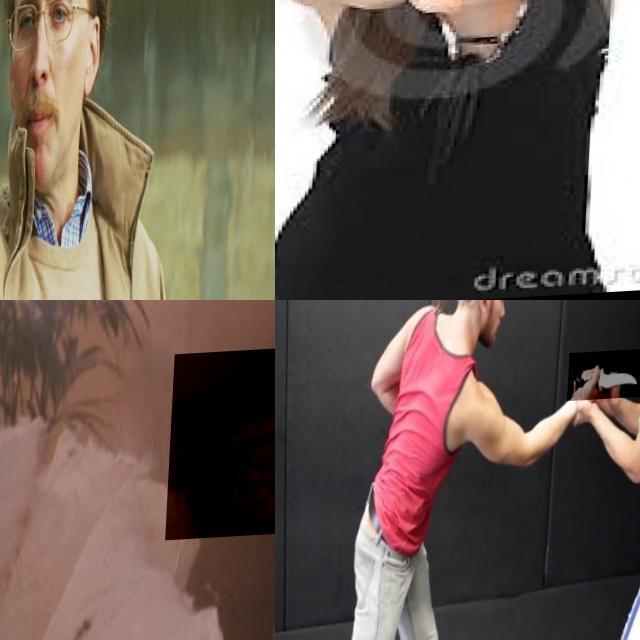-: (569, 354, 640, 405)
gun-knife-thesis - v11 Yolov5 augmented: (170, 351, 275, 542), (418, 0, 500, 64), (0, 140, 28, 300)
